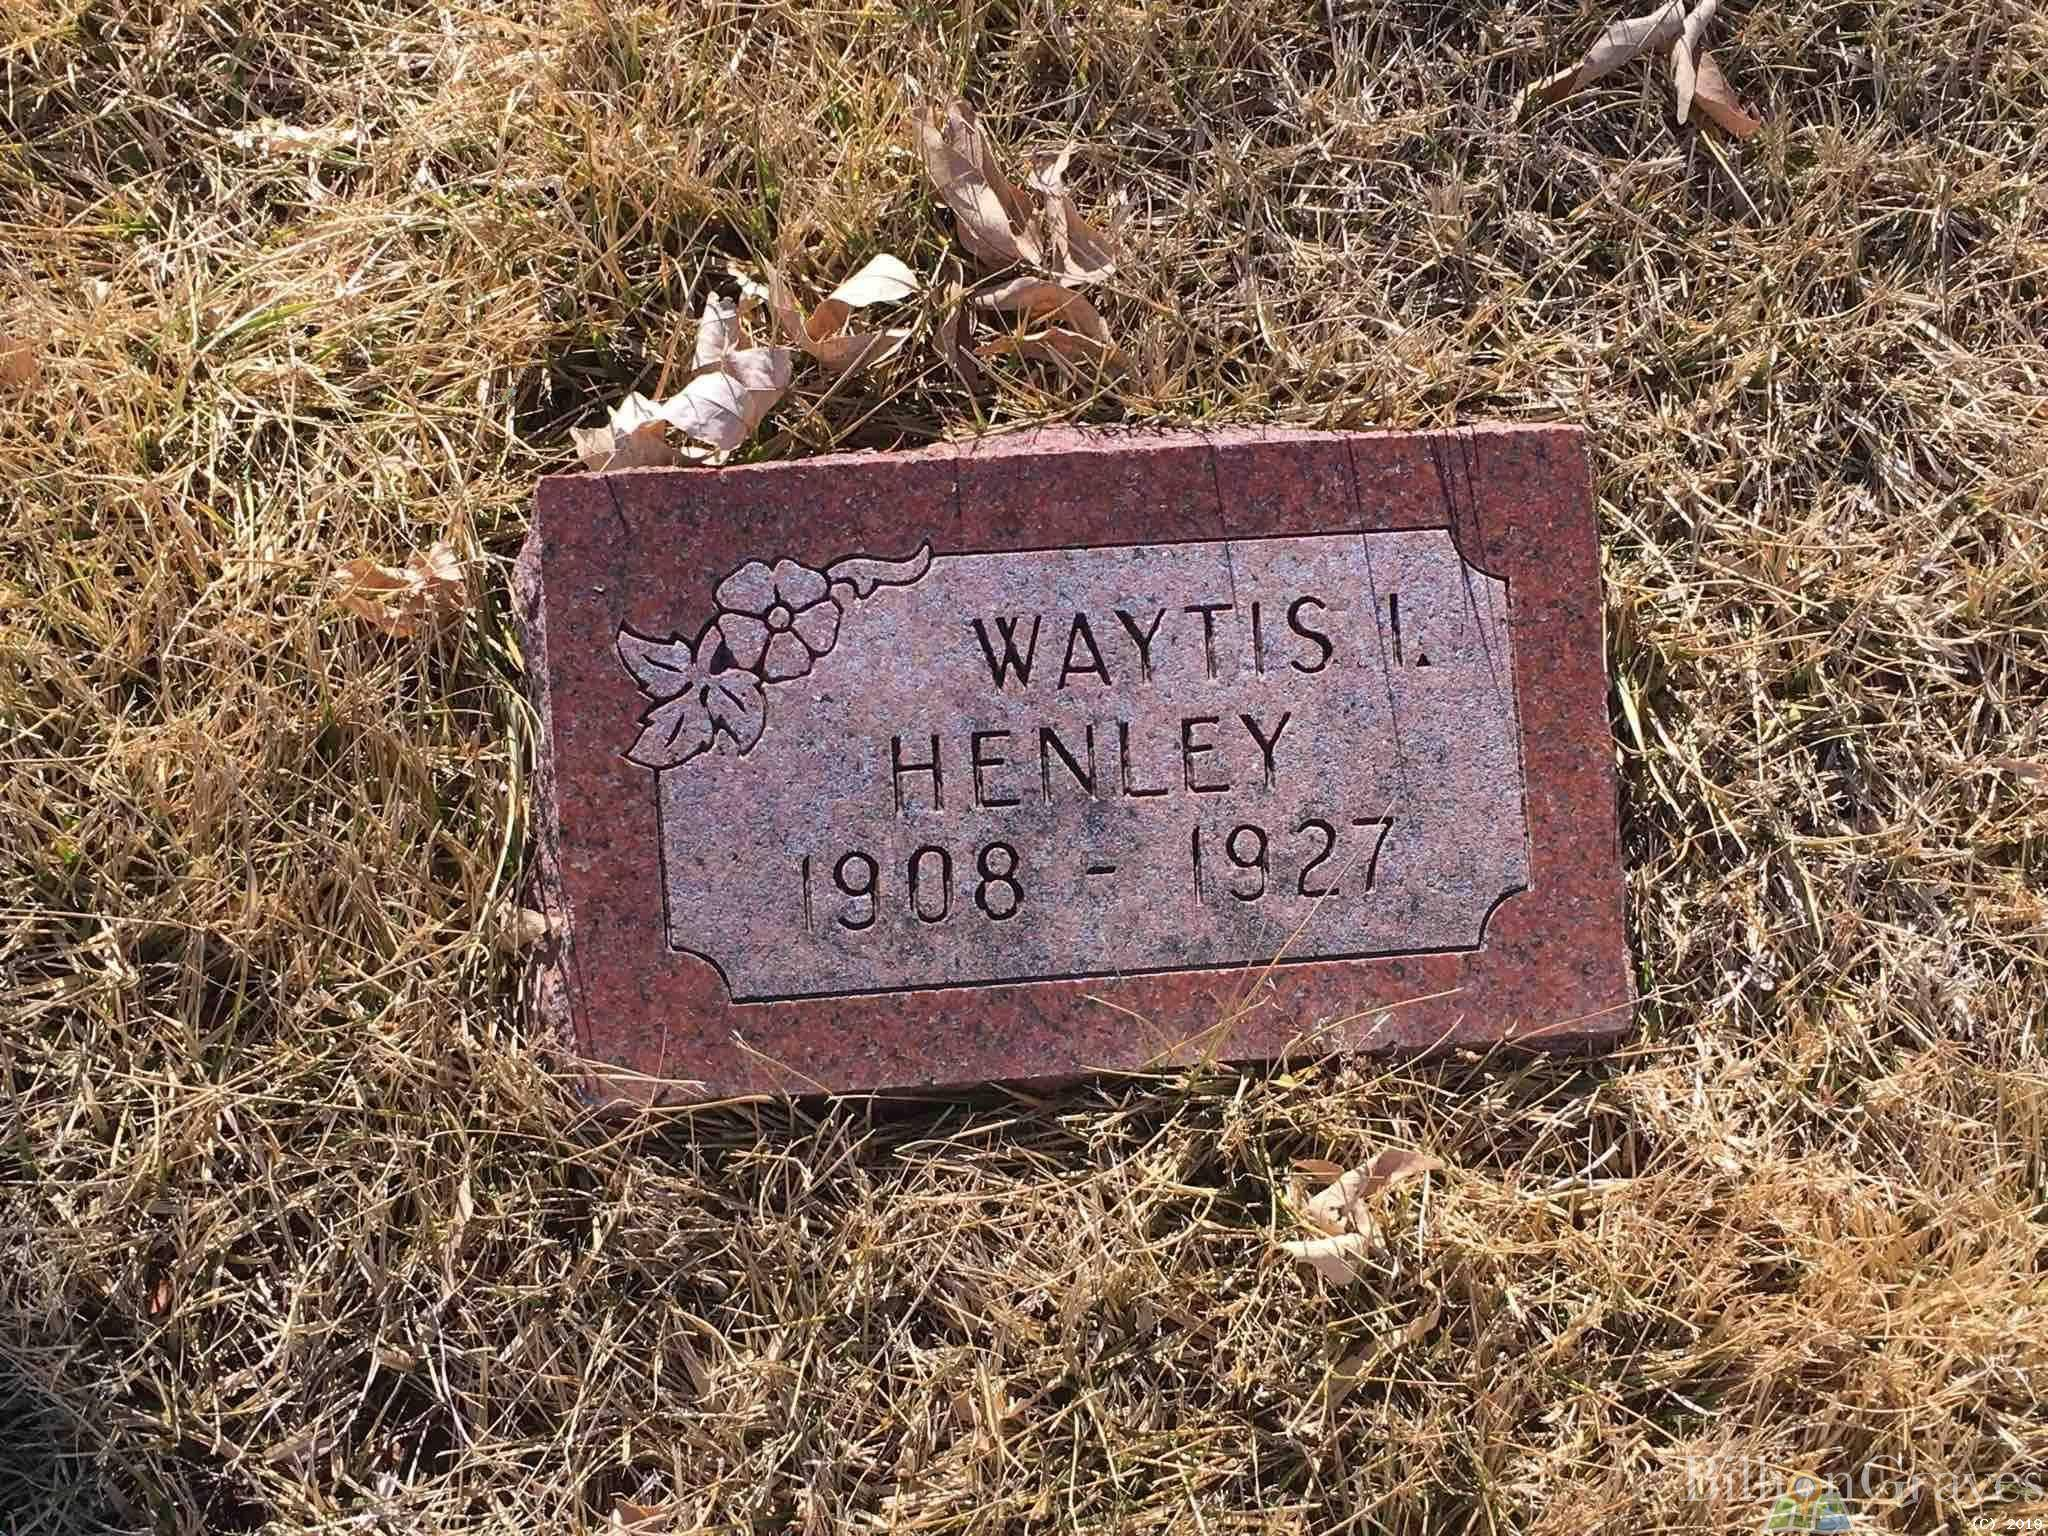flat: (505, 411, 1663, 1096)
